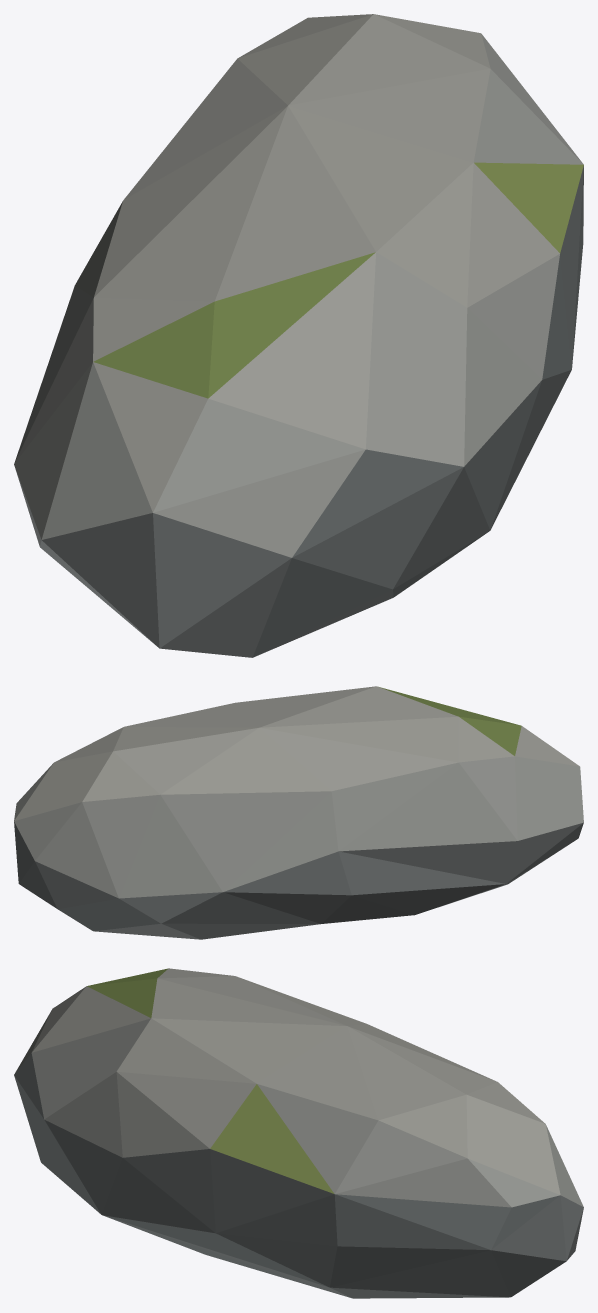
File: wild_pz_softrock_10.glb
3 renders of one model, top to bottom at view 1: azimuth 30°, elevation 25°; view 2: azimuth 150°, elevation 25°; view 3: azimuth 270°, elevation 25°, orthographic. The views are drawn at different scales.
Visible parts, largest first — view 1: pg_softrock_10; view 2: pg_softrock_10; view 3: pg_softrock_10.
Boxes of the visible parts, box(x1,y1,x2,y2) form: pg_softrock_10: box(14, 14, 583, 657); pg_softrock_10: box(14, 686, 583, 939); pg_softrock_10: box(14, 968, 583, 1298).
Bounding box in the file's own units: 0.9885 × 0.4412 × 1.
